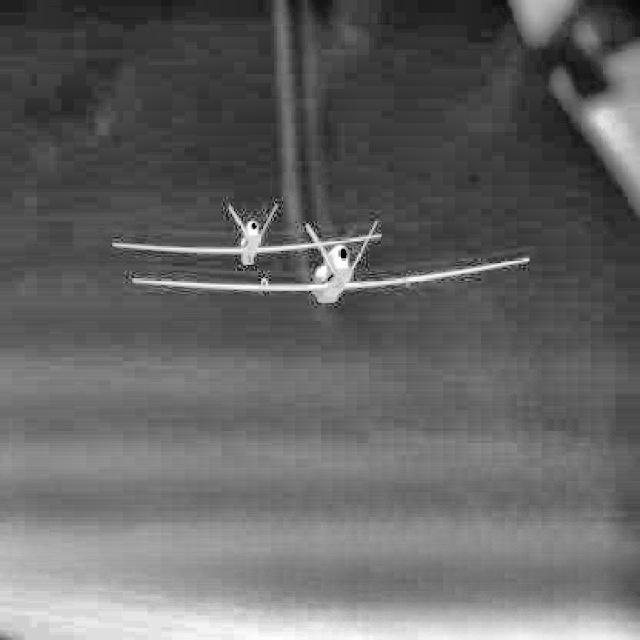RQ4: (132, 219, 530, 304), (113, 203, 382, 265)
